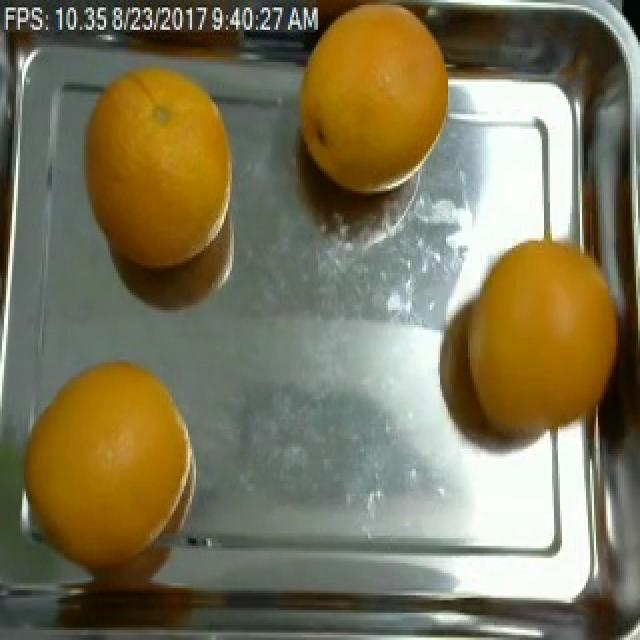Fruit: (276, 15, 468, 218)
